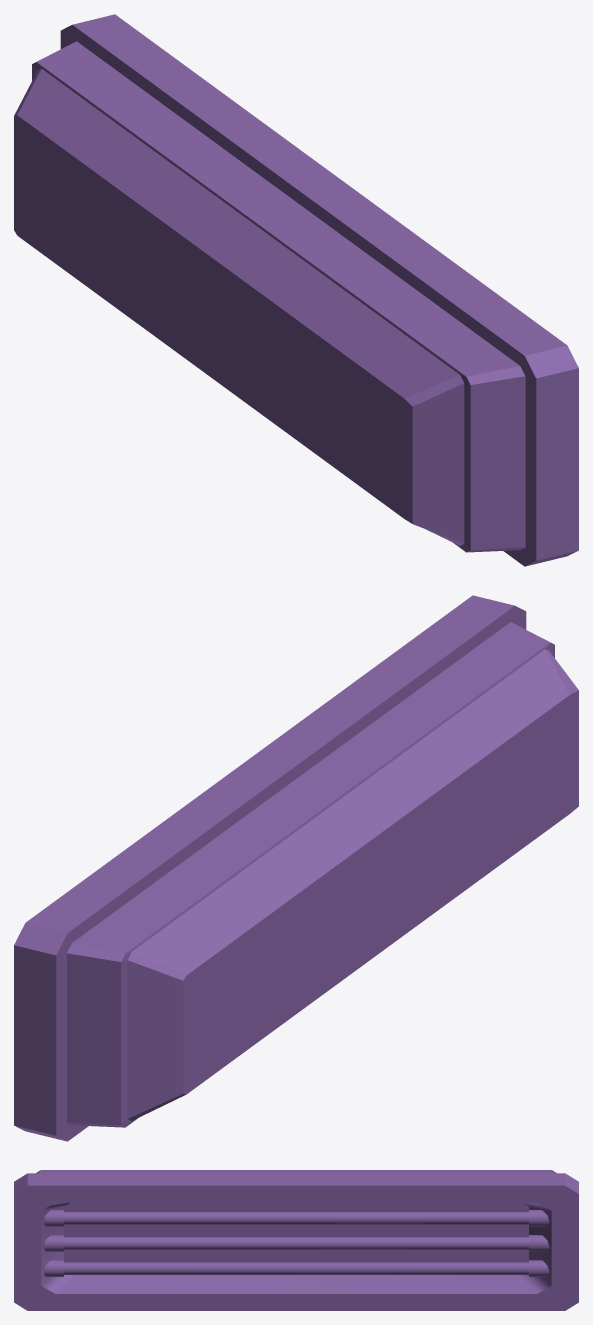
File: WALL.fbx
3 views of the same model, one above another, from view 1: azimuth 30°, elevation 25°; view 2: azimuth 150°, elevation 25°; view 3: azimuth 270°, elevation 25° (orthographic). The views are drawn at different scales.
Parts seen in each view (by area): view 1: WALL; view 2: WALL; view 3: WALL.
Boxes of the visible parts, <box> form: WALL: <box>14,14,578,566</box>; WALL: <box>14,595,578,1141</box>; WALL: <box>14,1170,578,1310</box>.
Bounding box in the file's own units: 37.21 × 57.18 × 234.
